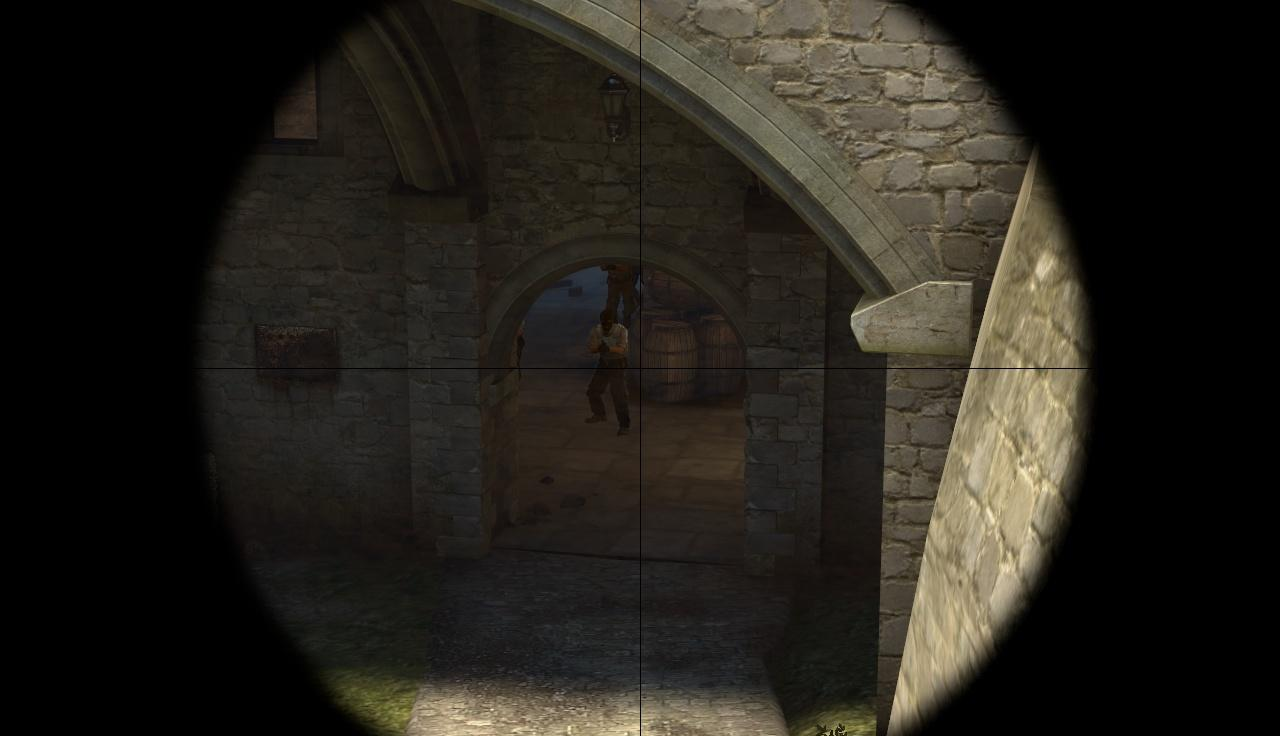tt: (585, 307, 629, 437), (601, 261, 638, 326)
tthead: (599, 310, 614, 331)
